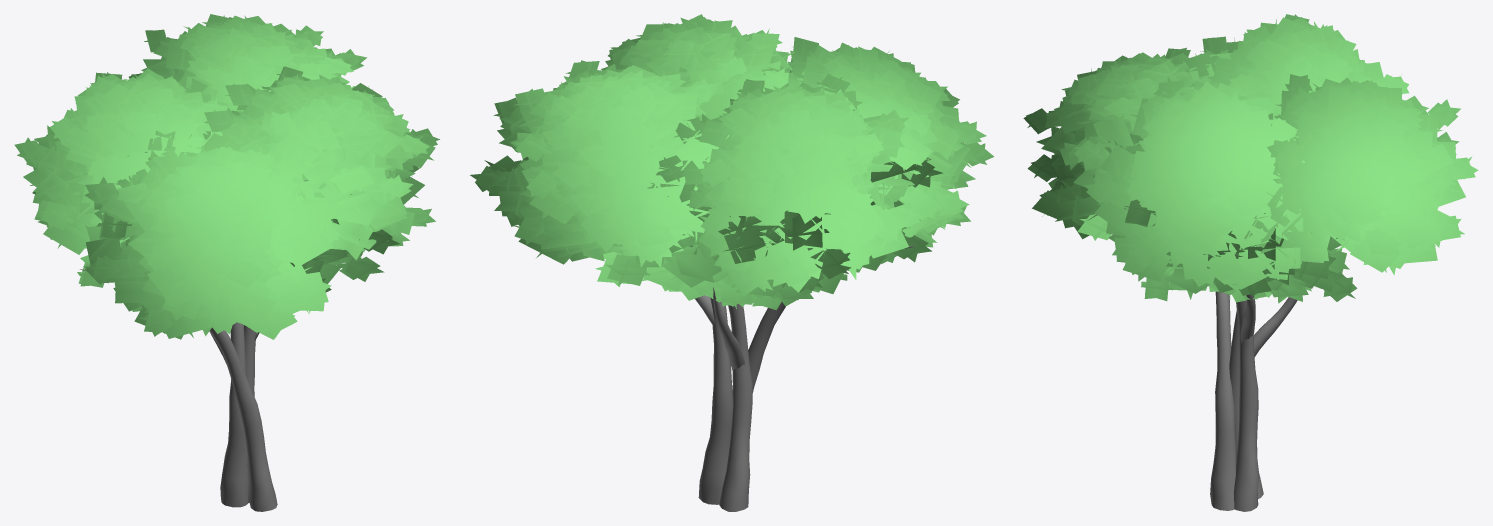
Rendered from SM_tree_large.fbx.
The picture shows the model from 3 angles, left to right: view 1: azimuth 30°, elevation 25°; view 2: azimuth 150°, elevation 25°; view 3: azimuth 270°, elevation 25°; orthographic projection. The views are drawn at different scales.
Parts seen in each view (by area): view 1: Group014; view 2: Group014; view 3: Group014.
Part boxes in pixels (x1,y1,x2,y2): Group014: [14, 14, 439, 511]; Group014: [470, 14, 994, 511]; Group014: [1023, 14, 1478, 511].
Size of the model in its own units: 449 by 495 by 473.
